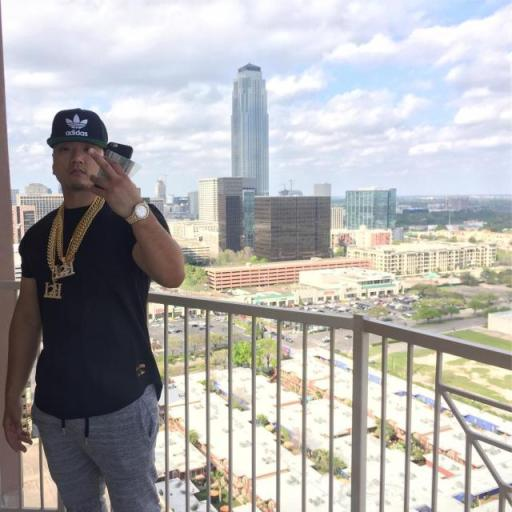Adidas: (64, 112, 90, 138)
